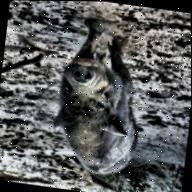boar: (46, 16, 151, 182)
